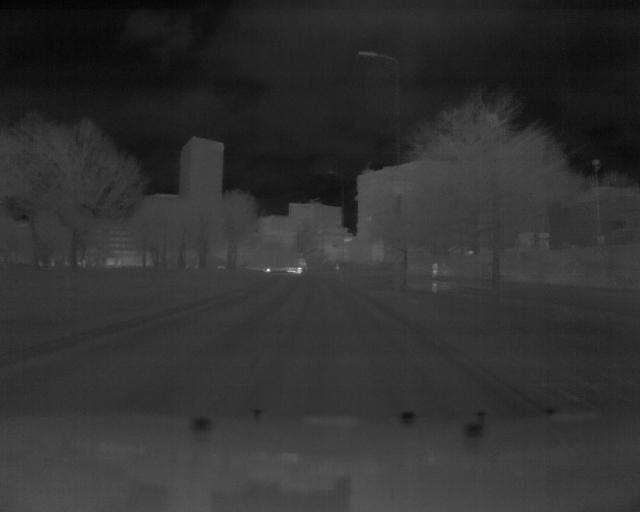person: (428, 258, 440, 281)
